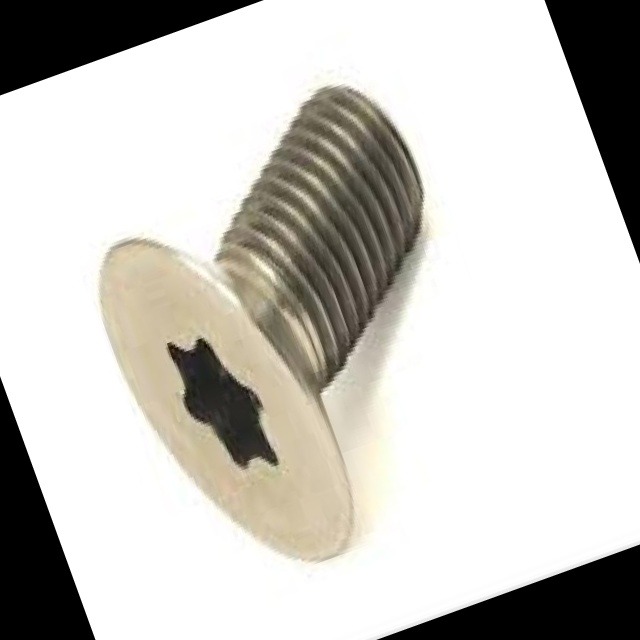torx: (76, 193, 374, 607)
